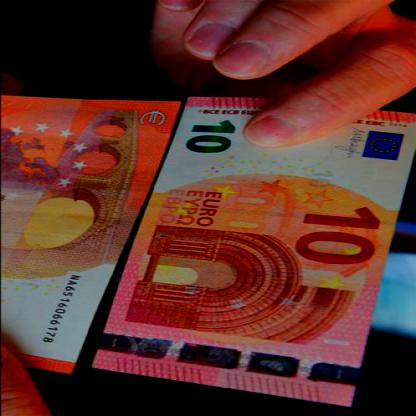euro_banknote: (104, 101, 405, 383)
